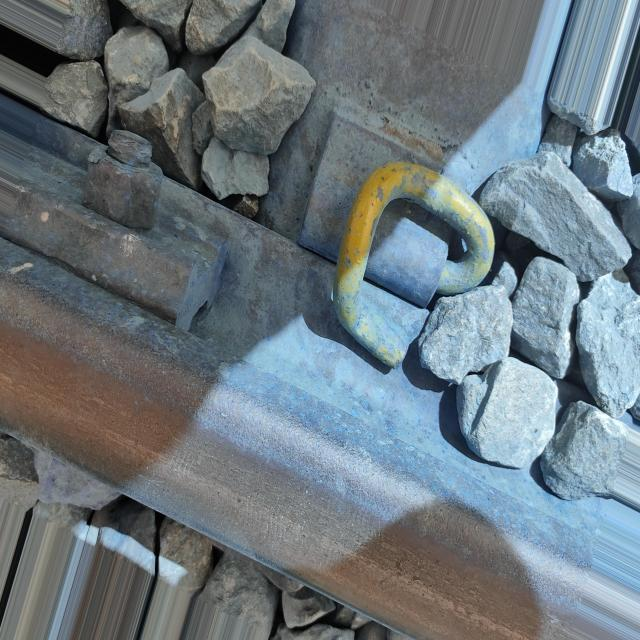Defective Joint: (285, 95, 502, 381)
